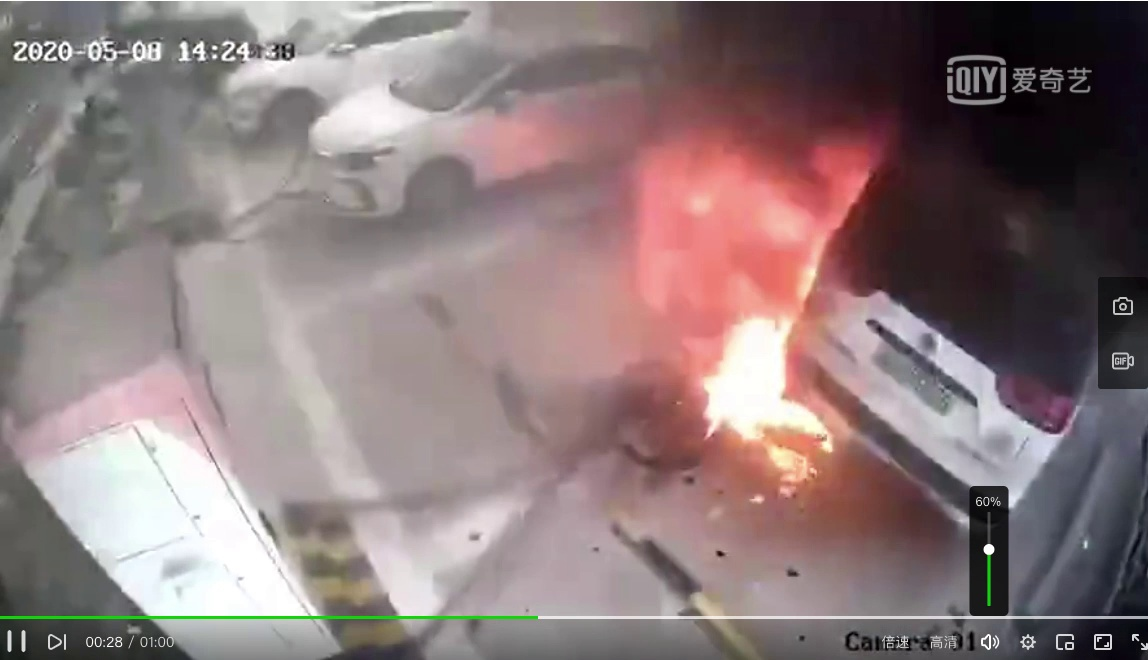fire: (655, 174, 844, 470)
